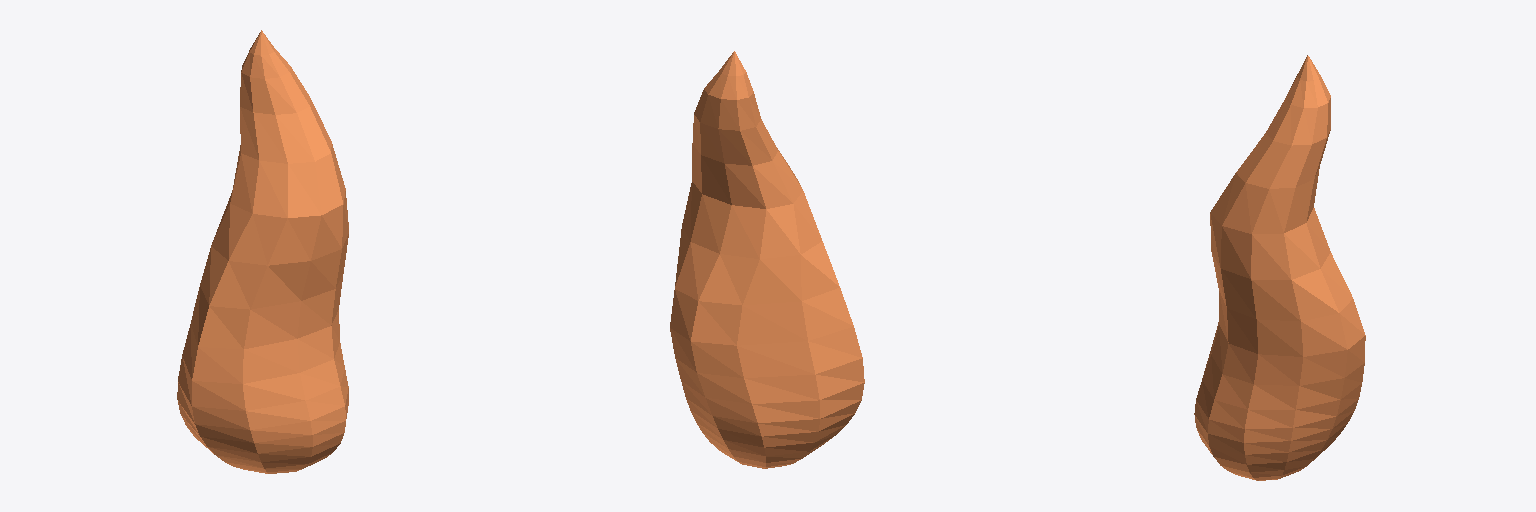
Rendered from flame.obj.
The picture shows the model from 3 angles: view 1: azimuth 30°, elevation 25°; view 2: azimuth 150°, elevation 25°; view 3: azimuth 270°, elevation 25°; orthographic projection.
Visible parts, largest first — view 1: pSphere1; view 2: pSphere1; view 3: pSphere1.
Boxes of the visible parts, x1=… form: pSphere1: x1=177, y1=30, x2=348, y2=473; pSphere1: x1=670, y1=51, x2=864, y2=468; pSphere1: x1=1194, y1=55, x2=1365, y2=480.
Size of the model in its own units: 1.92 by 4.81 by 1.77.